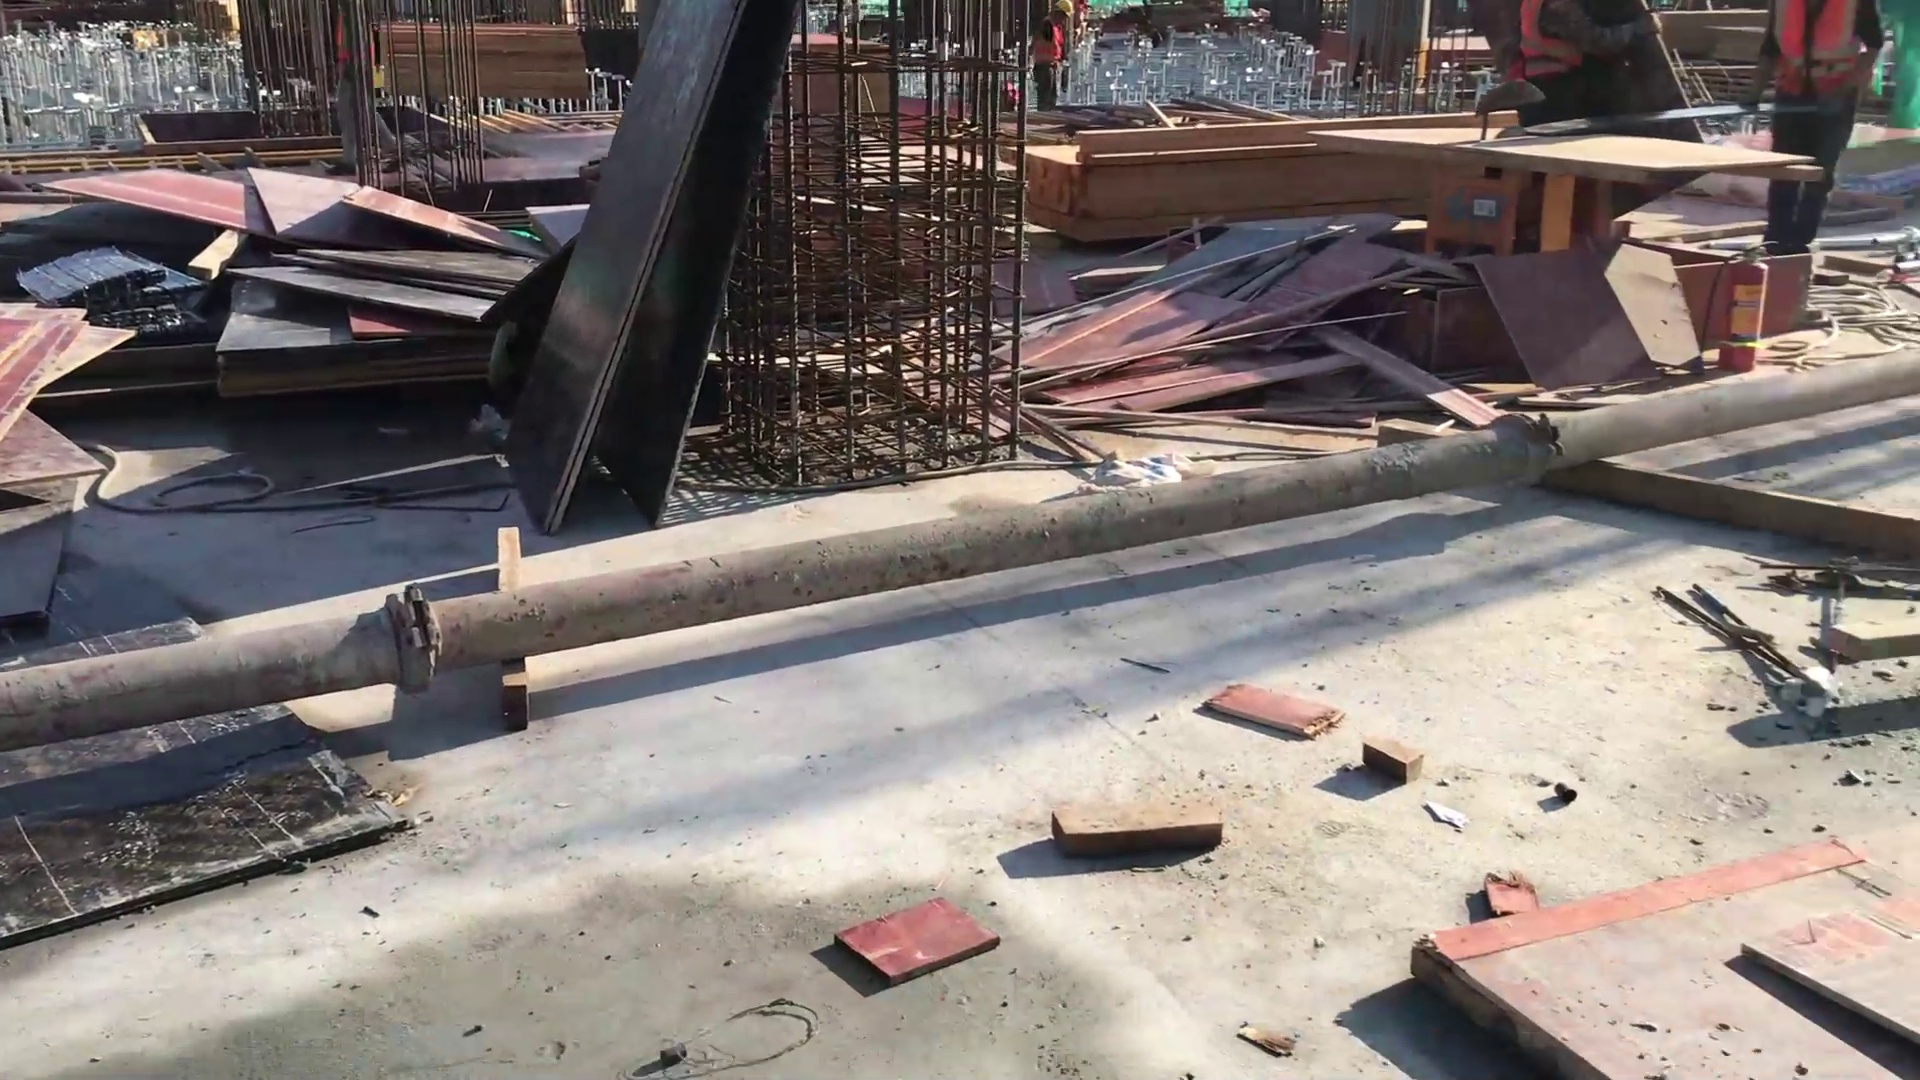cutter: (1344, 70, 1754, 266)
helmet: (1056, 1, 1075, 18)
person: (1763, 1, 1897, 254), (1022, 2, 1084, 115)
vest: (1773, 1, 1873, 93), (1518, 1, 1584, 75), (1031, 15, 1066, 66)
wood: (1057, 116, 1377, 228), (469, 17, 577, 103)
